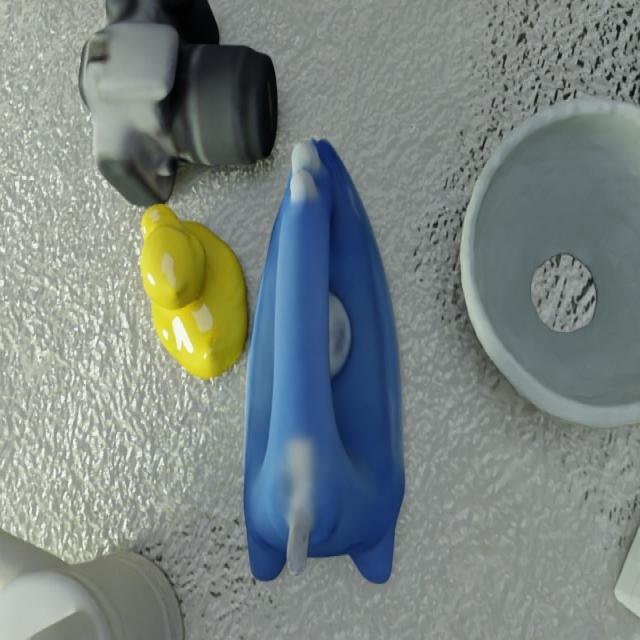Other Objects: (245, 139, 405, 583), (461, 97, 640, 427), (79, 0, 278, 205), (141, 205, 248, 377)
